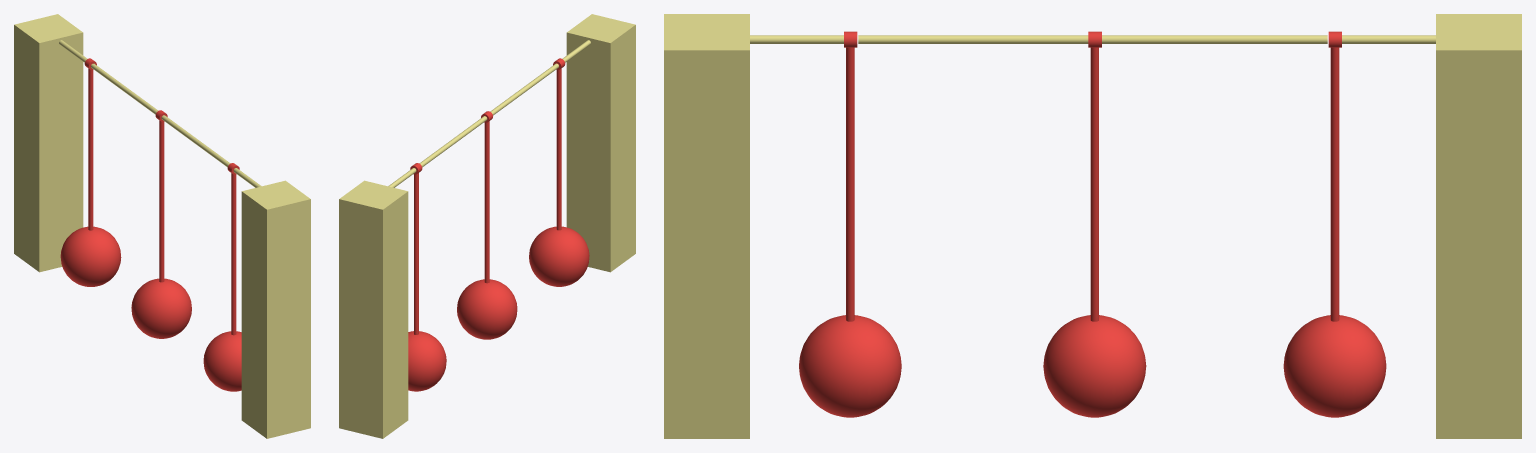
Rendered from 3Balls.fbx.
3 renders of one model, left to right at view 1: azimuth 30°, elevation 25°; view 2: azimuth 150°, elevation 25°; view 3: azimuth 270°, elevation 25°, orthographic. The views are drawn at different scales.
Parts seen in each view (by area): view 1: Cube, Cube.001, Cylinder.001, Cylinder.003, Cylinder.004, Cylinder; view 2: Cube.001, Cube, Cylinder.004, Cylinder.001, Cylinder.003, Cylinder; view 3: Cube, Cube.001, Cylinder.003, Cylinder.001, Cylinder.004, Cylinder.
Part boxes in pixels (x1=…): Cube: x1=241, y1=180, x2=310, y2=438; Cube.001: x1=14, y1=14, x2=83, y2=272; Cylinder.001: x1=131, y1=110, x2=191, y2=338; Cylinder.003: x1=60, y1=58, x2=121, y2=286; Cylinder.004: x1=203, y1=163, x2=241, y2=391; Cylinder: x1=59, y1=40, x2=261, y2=187; Cube.001: x1=339, y1=180, x2=408, y2=438; Cube: x1=566, y1=14, x2=635, y2=272; Cylinder.004: x1=529, y1=58, x2=589, y2=286; Cylinder.001: x1=457, y1=111, x2=517, y2=339; Cylinder.003: x1=408, y1=163, x2=446, y2=391; Cylinder: x1=388, y1=40, x2=590, y2=187; Cube: x1=664, y1=14, x2=749, y2=438; Cube.001: x1=1436, y1=14, x2=1521, y2=438; Cylinder.003: x1=1283, y1=31, x2=1386, y2=417; Cylinder.001: x1=1043, y1=31, x2=1146, y2=417; Cylinder.004: x1=799, y1=31, x2=901, y2=417; Cylinder: x1=750, y1=35, x2=1435, y2=43.
Bounding box in the file's own units: 2.4 × 10 × 20.
